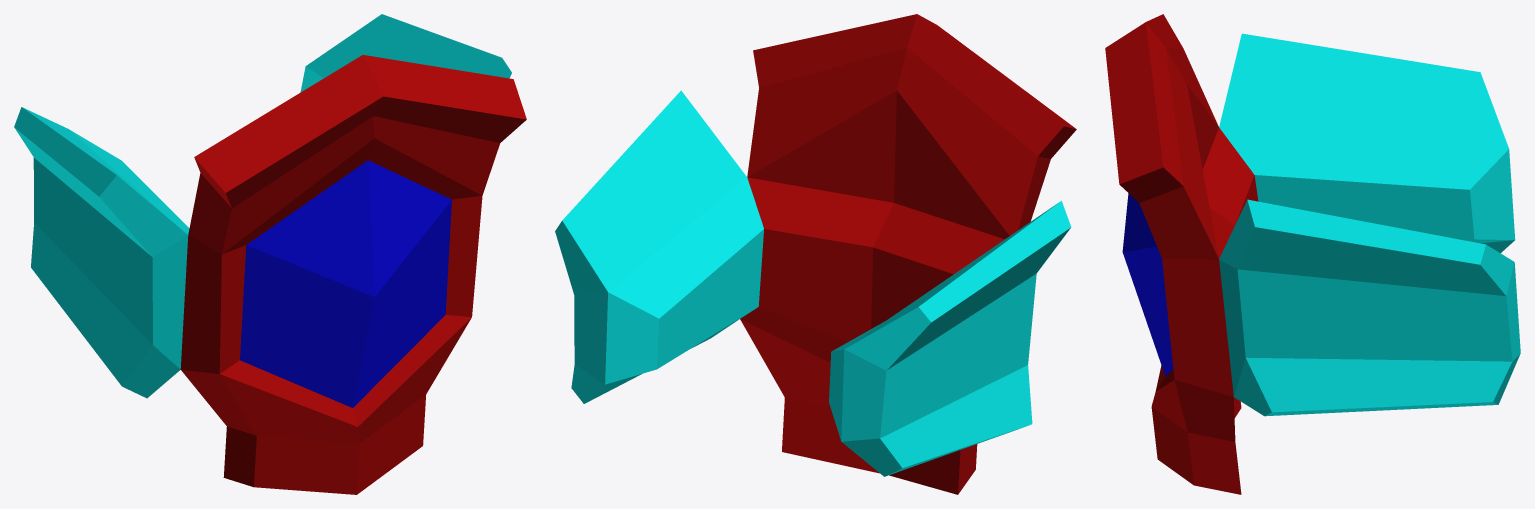
Rendered from Chr_KneeAttachRight_Static_07.fbx.
3 views of the same model, side by side, from view 1: azimuth 30°, elevation 25°; view 2: azimuth 150°, elevation 25°; view 3: azimuth 270°, elevation 25° (orthographic). The views are drawn at different scales.
Visible parts, largest first — view 1: Chr_KneeAttachRight_07; view 2: Chr_KneeAttachRight_07; view 3: Chr_KneeAttachRight_07.
Boxes of the visible parts, x1,y1,x2,y2 form: Chr_KneeAttachRight_07: (14,14,526,494); Chr_KneeAttachRight_07: (555,14,1076,494); Chr_KneeAttachRight_07: (1105,14,1520,494).
Bounding box in the file's own units: 22 × 22.91 × 19.35.
